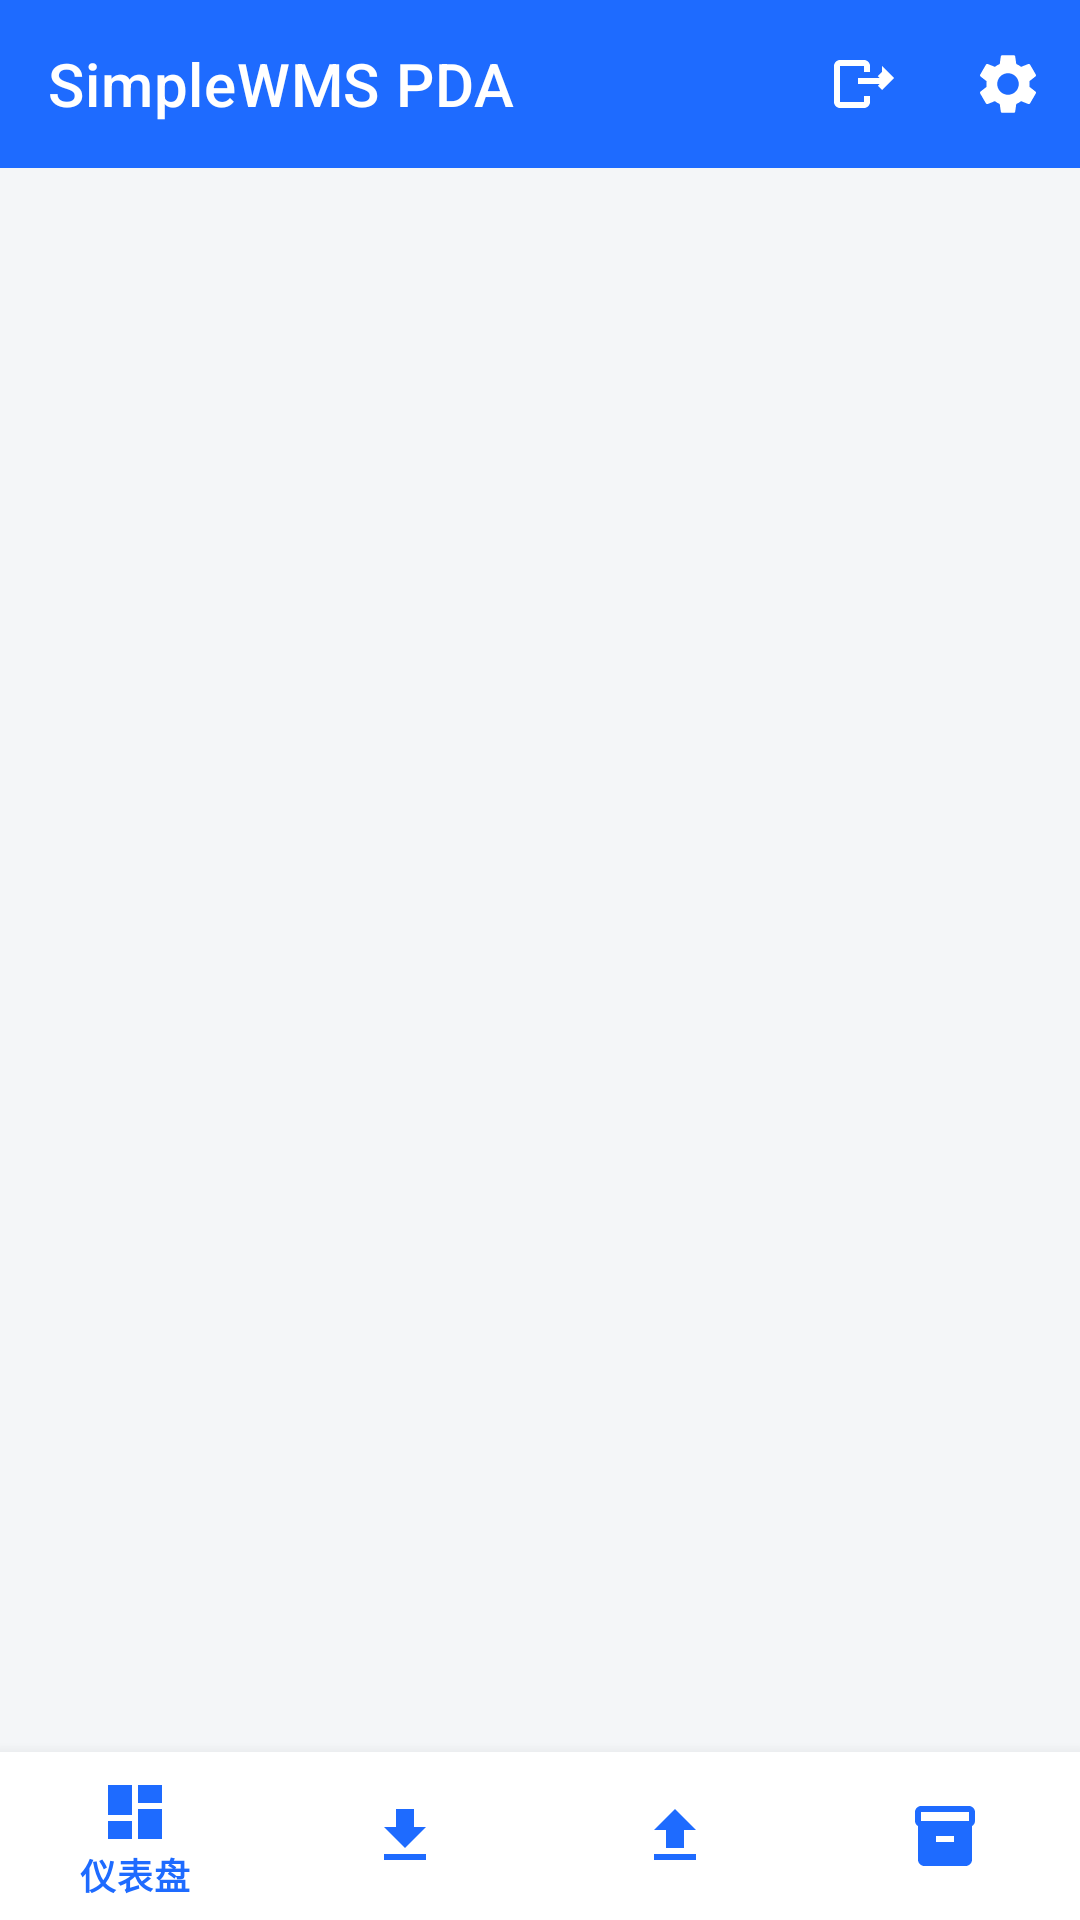

Icon click points for this 1080w x 1920h phone screenshot, format (x,y):
设置: (1008,84)
